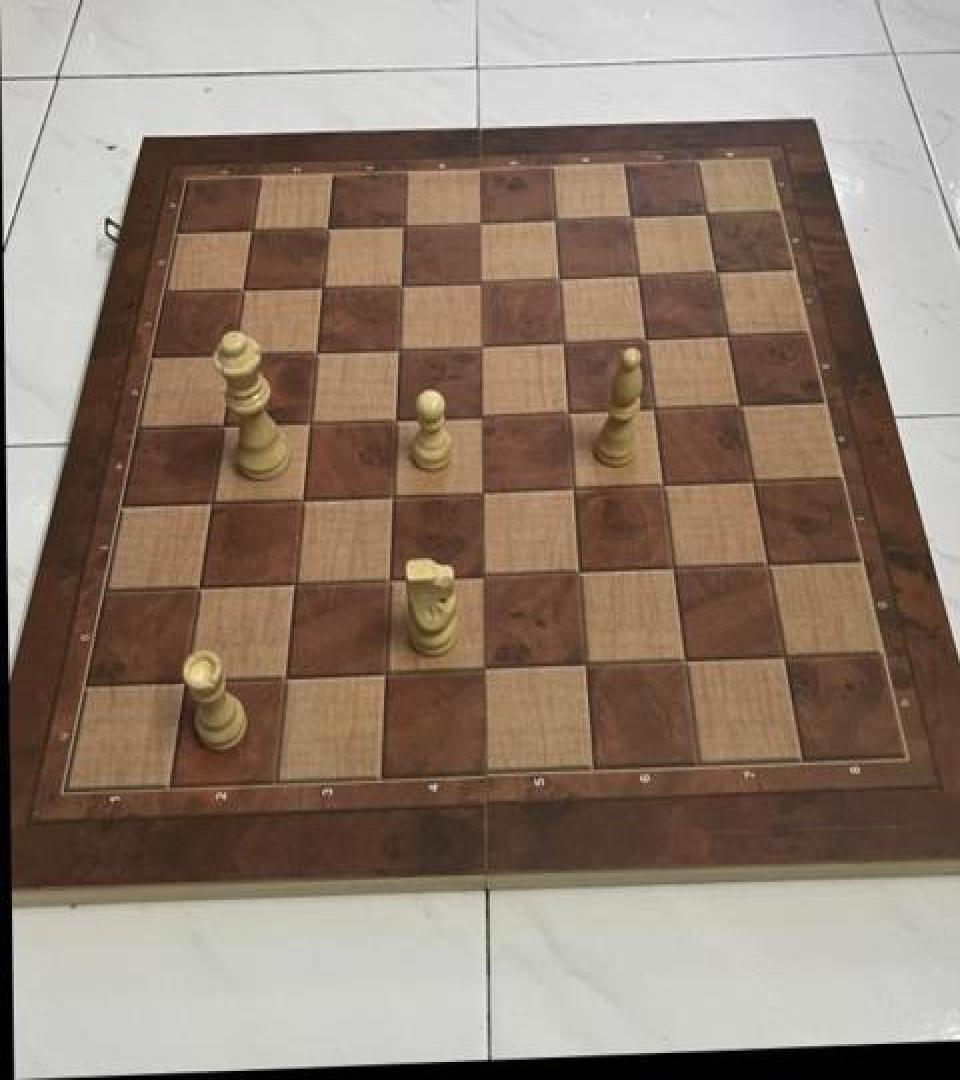xcorner: (688, 192, 724, 233), (461, 201, 497, 242), (233, 210, 269, 251), (620, 254, 656, 295), (383, 263, 419, 304), (627, 318, 663, 359), (463, 325, 499, 366), (215, 334, 251, 375), (635, 388, 671, 429), (377, 398, 413, 439), (734, 460, 770, 501), (464, 471, 500, 512), (284, 478, 320, 519), (749, 543, 785, 584), (560, 551, 596, 592), (371, 559, 407, 600), (665, 640, 701, 681), (167, 660, 203, 701), (613, 196, 649, 236), (537, 198, 573, 238), (385, 205, 421, 245), (309, 207, 345, 247), (698, 251, 734, 291), (541, 258, 577, 298), (462, 261, 498, 301), (304, 267, 340, 307), (225, 270, 261, 310), (709, 315, 745, 355), (545, 322, 581, 362), (380, 329, 416, 369), (298, 331, 334, 371), (721, 385, 757, 425), (549, 392, 585, 432), (463, 395, 499, 435), (291, 402, 327, 442), (205, 405, 241, 445), (644, 464, 680, 504), (554, 468, 590, 508), (374, 475, 410, 515), (194, 483, 230, 523), (654, 548, 690, 588), (465, 556, 501, 596), (276, 564, 312, 604), (181, 567, 217, 607), (764, 636, 800, 676), (566, 644, 602, 684), (466, 648, 502, 688), (367, 653, 403, 693), (267, 657, 303, 697)
